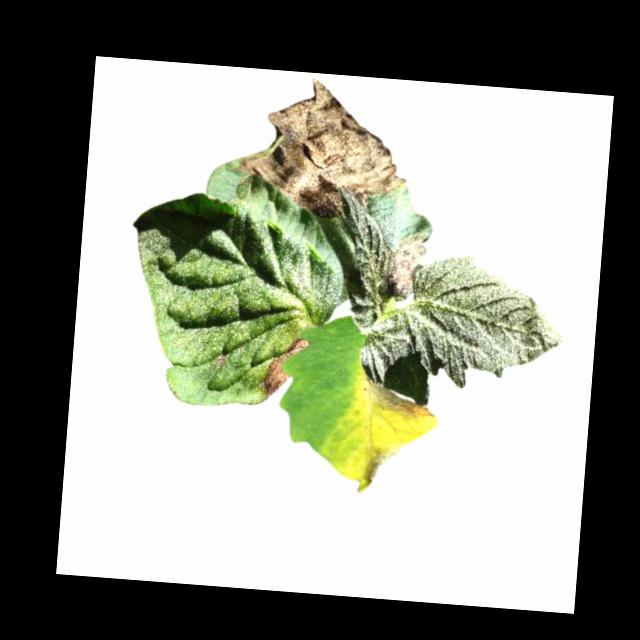Late_blight: (231, 70, 414, 223), (382, 227, 430, 303), (360, 379, 439, 420), (261, 334, 310, 398), (352, 440, 406, 498), (210, 346, 228, 368)
healthy: (356, 246, 571, 416)
